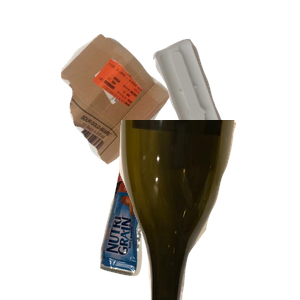cardboard: (58, 31, 222, 188)
glass: (117, 120, 300, 300)
plastic: (150, 36, 300, 173)
trash: (97, 152, 248, 300)
